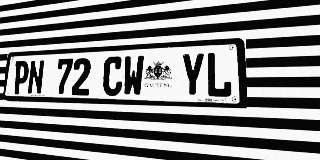2: (71, 58, 91, 95)
7: (54, 58, 73, 95)
C: (102, 56, 123, 96)
L: (206, 51, 232, 98)
N: (27, 60, 45, 95)
P: (12, 60, 30, 94)
W: (122, 55, 144, 96)
Y: (180, 52, 205, 97)
